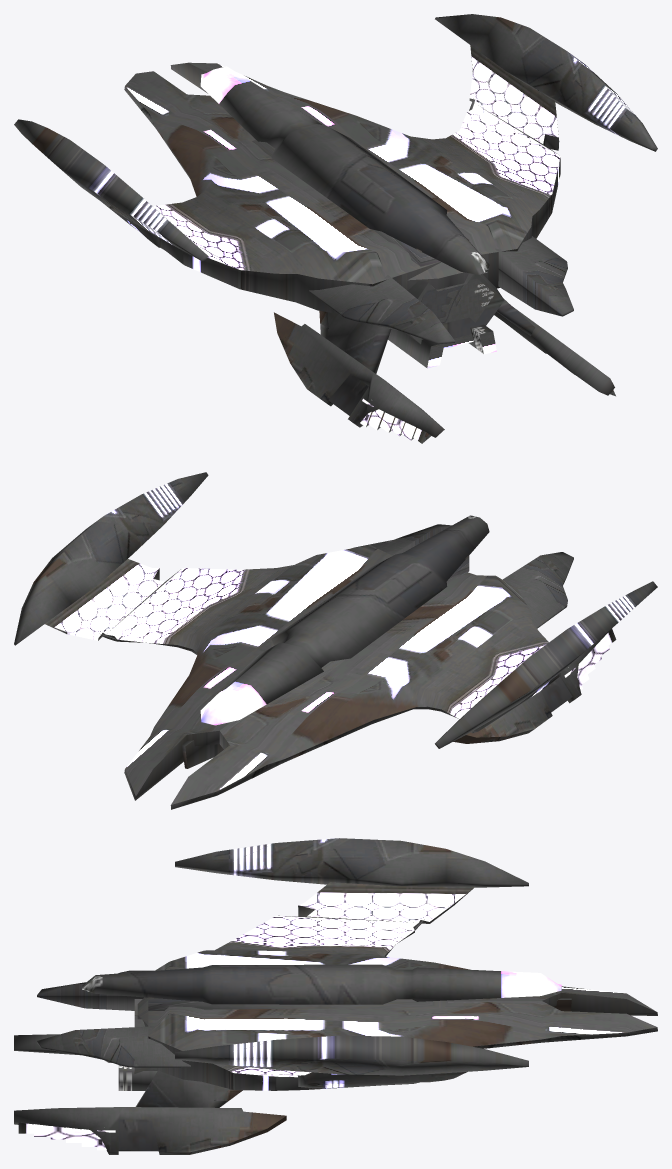
File: Dom_Devastator.fbx
3 renders of one model, top to bottom at view 1: azimuth 30°, elevation 25°; view 2: azimuth 150°, elevation 25°; view 3: azimuth 270°, elevation 25°, orthographic. The views are drawn at different scales.
Visible parts, largest first — view 1: Dom_Devastator; view 2: Dom_Devastator; view 3: Dom_Devastator.
Part boxes in pixels (<box>): Dom_Devastator: <box>14,14,657,443</box>; Dom_Devastator: <box>14,472,657,809</box>; Dom_Devastator: <box>14,838,657,1154</box>.
Bounding box in the file's own units: 636 × 240 × 814.
Materials: 1 (1 with a texture image).
